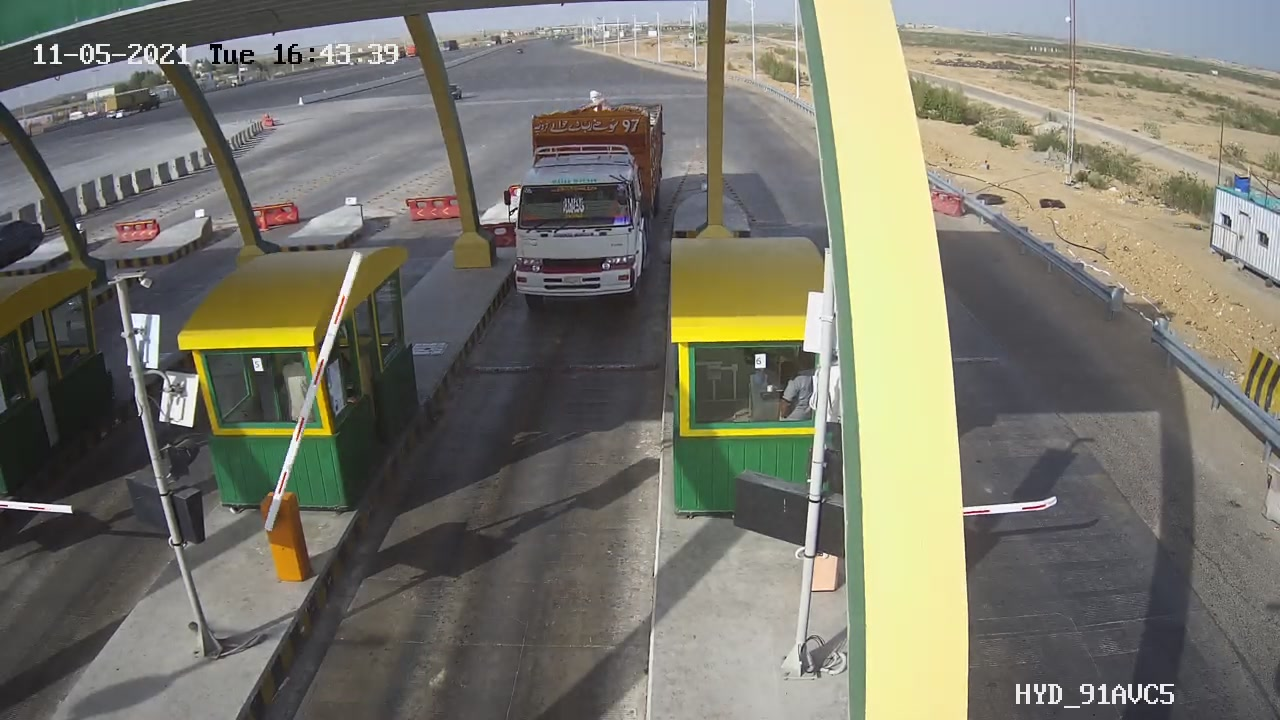F6: (478, 77, 688, 323)
